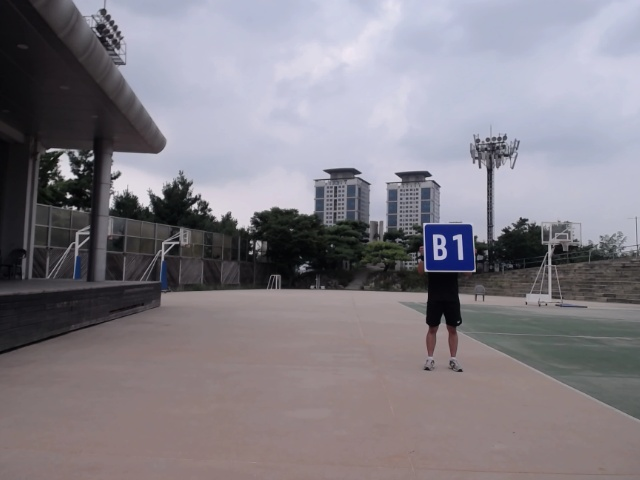delivery_b1: (423, 223, 476, 272)
